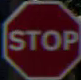Stop: (6, 4, 75, 73)
